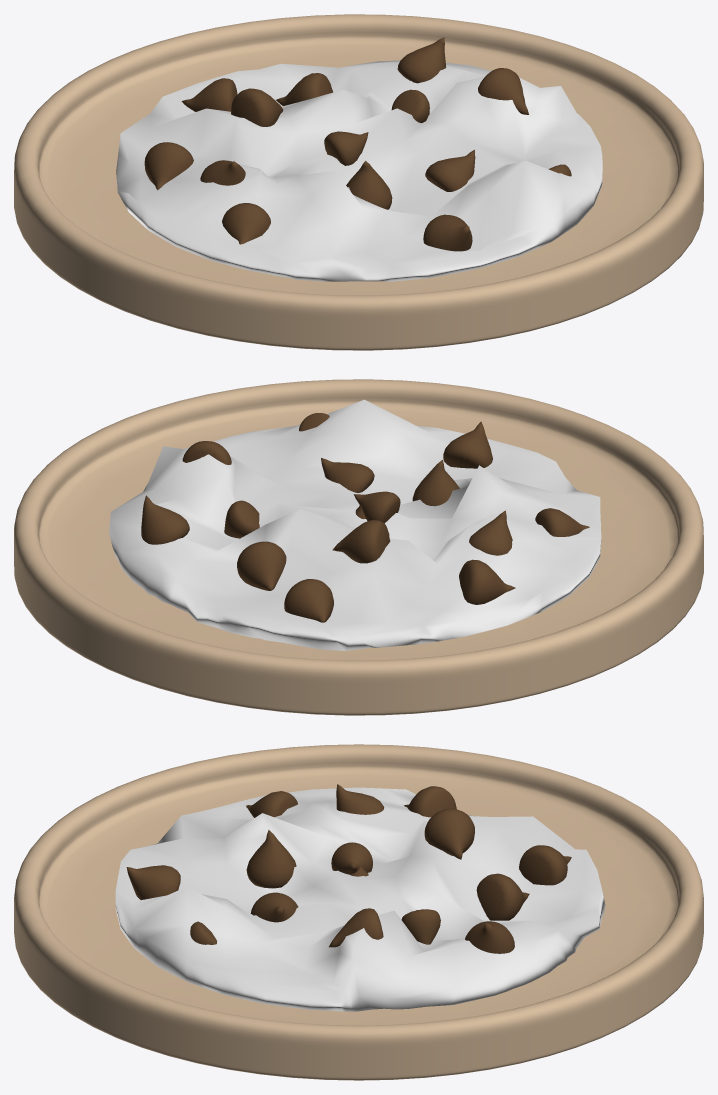
The model's file is cookie.fbx.
The picture shows the model from 3 angles, top to bottom: view 1: azimuth 30°, elevation 25°; view 2: azimuth 150°, elevation 25°; view 3: azimuth 270°, elevation 25°; orthographic projection.
Parts seen in each view (by area): view 1: plate, cookie, chocolate chips; view 2: plate, cookie, chocolate chips; view 3: plate, cookie, chocolate chips.
Boxes of the visible parts, x1,y1,x2,y2 form: plate: (14, 14, 703, 350); cookie: (116, 60, 602, 281); chocolate chips: (144, 37, 571, 251); plate: (14, 379, 703, 715); cookie: (109, 399, 601, 650); chocolate chips: (141, 413, 589, 622); plate: (14, 744, 703, 1080); cookie: (115, 787, 605, 1011); chocolate chips: (126, 784, 571, 953).
Bounding box in the file's own units: 212 × 34.03 × 212.
